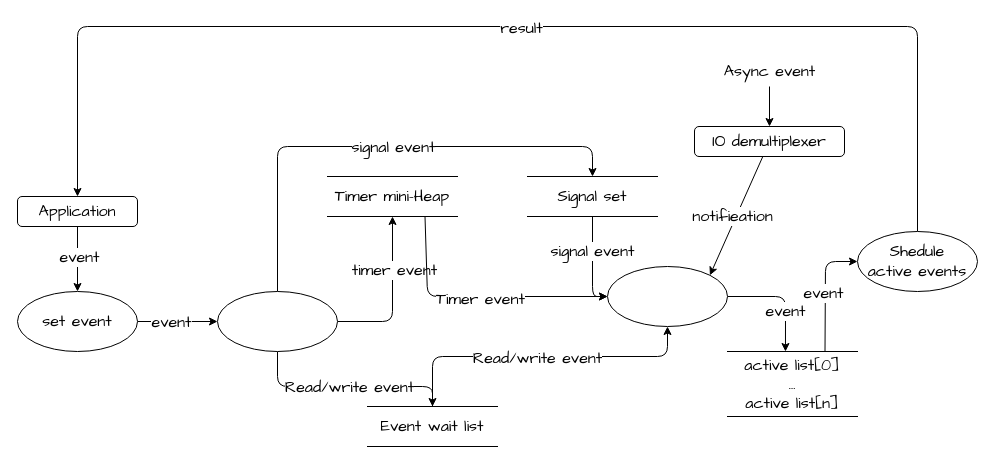
Some shapes in this 995 by 464 pixel diagram are drawn without their labels. Here are the shapes that lost their labels. From the top down, the box of each, then its label:
(606, 266, 728, 326): active event
(216, 290, 338, 352): add event to libevent
